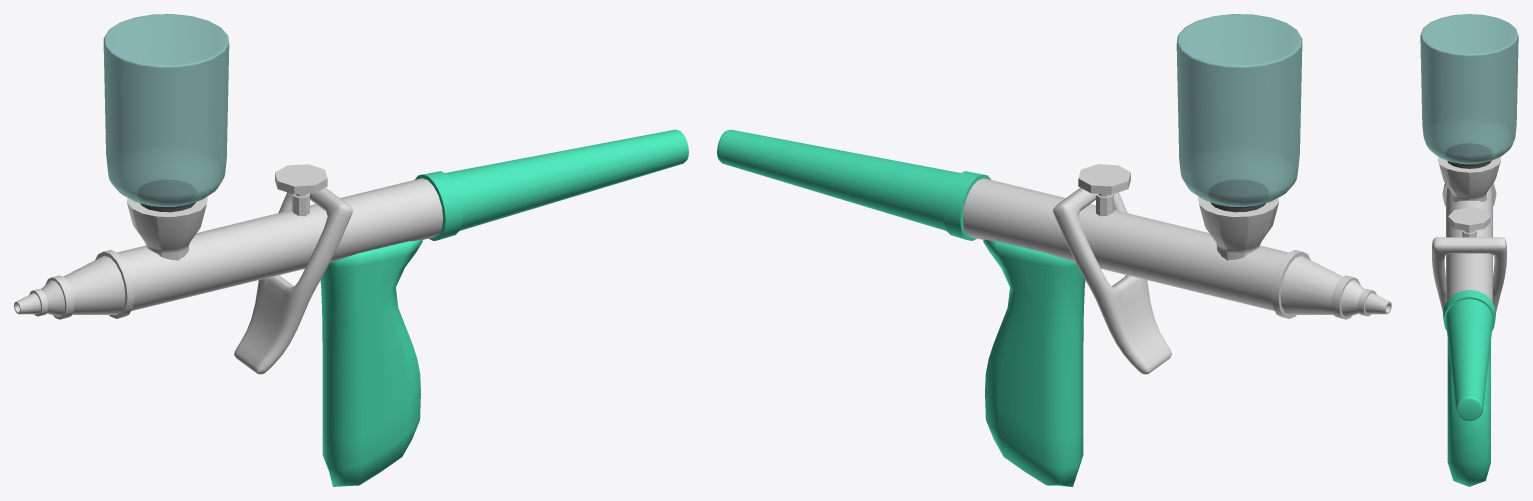
The model's file is Airbrush_s.fbx.
The picture shows the model from 3 angles, left to right: view 1: azimuth 30°, elevation 25°; view 2: azimuth 150°, elevation 25°; view 3: azimuth 270°, elevation 25°; orthographic projection. The views are drawn at different scales.
Visible parts, largest first — view 1: body_s, pCylinder1, triger_s, pCylinder2; view 2: body_s, pCylinder1, triger_s, pCylinder2; view 3: body_s, pCylinder1, triger_s, pCylinder2.
Boxes of the visible parts, x1,y1,x2,y2 form: body_s: (14, 129, 688, 486); pCylinder1: (103, 14, 229, 206); triger_s: (234, 187, 352, 374); pCylinder2: (138, 180, 196, 212); body_s: (717, 129, 1391, 486); pCylinder1: (1176, 14, 1302, 207); triger_s: (1053, 187, 1171, 374); pCylinder2: (1209, 180, 1268, 212); body_s: (1437, 157, 1500, 486); pCylinder1: (1420, 14, 1518, 164); triger_s: (1432, 237, 1506, 312); pCylinder2: (1446, 143, 1491, 168).
Bounding box in the file's own units: 21.03 × 14.83 × 3.47.
